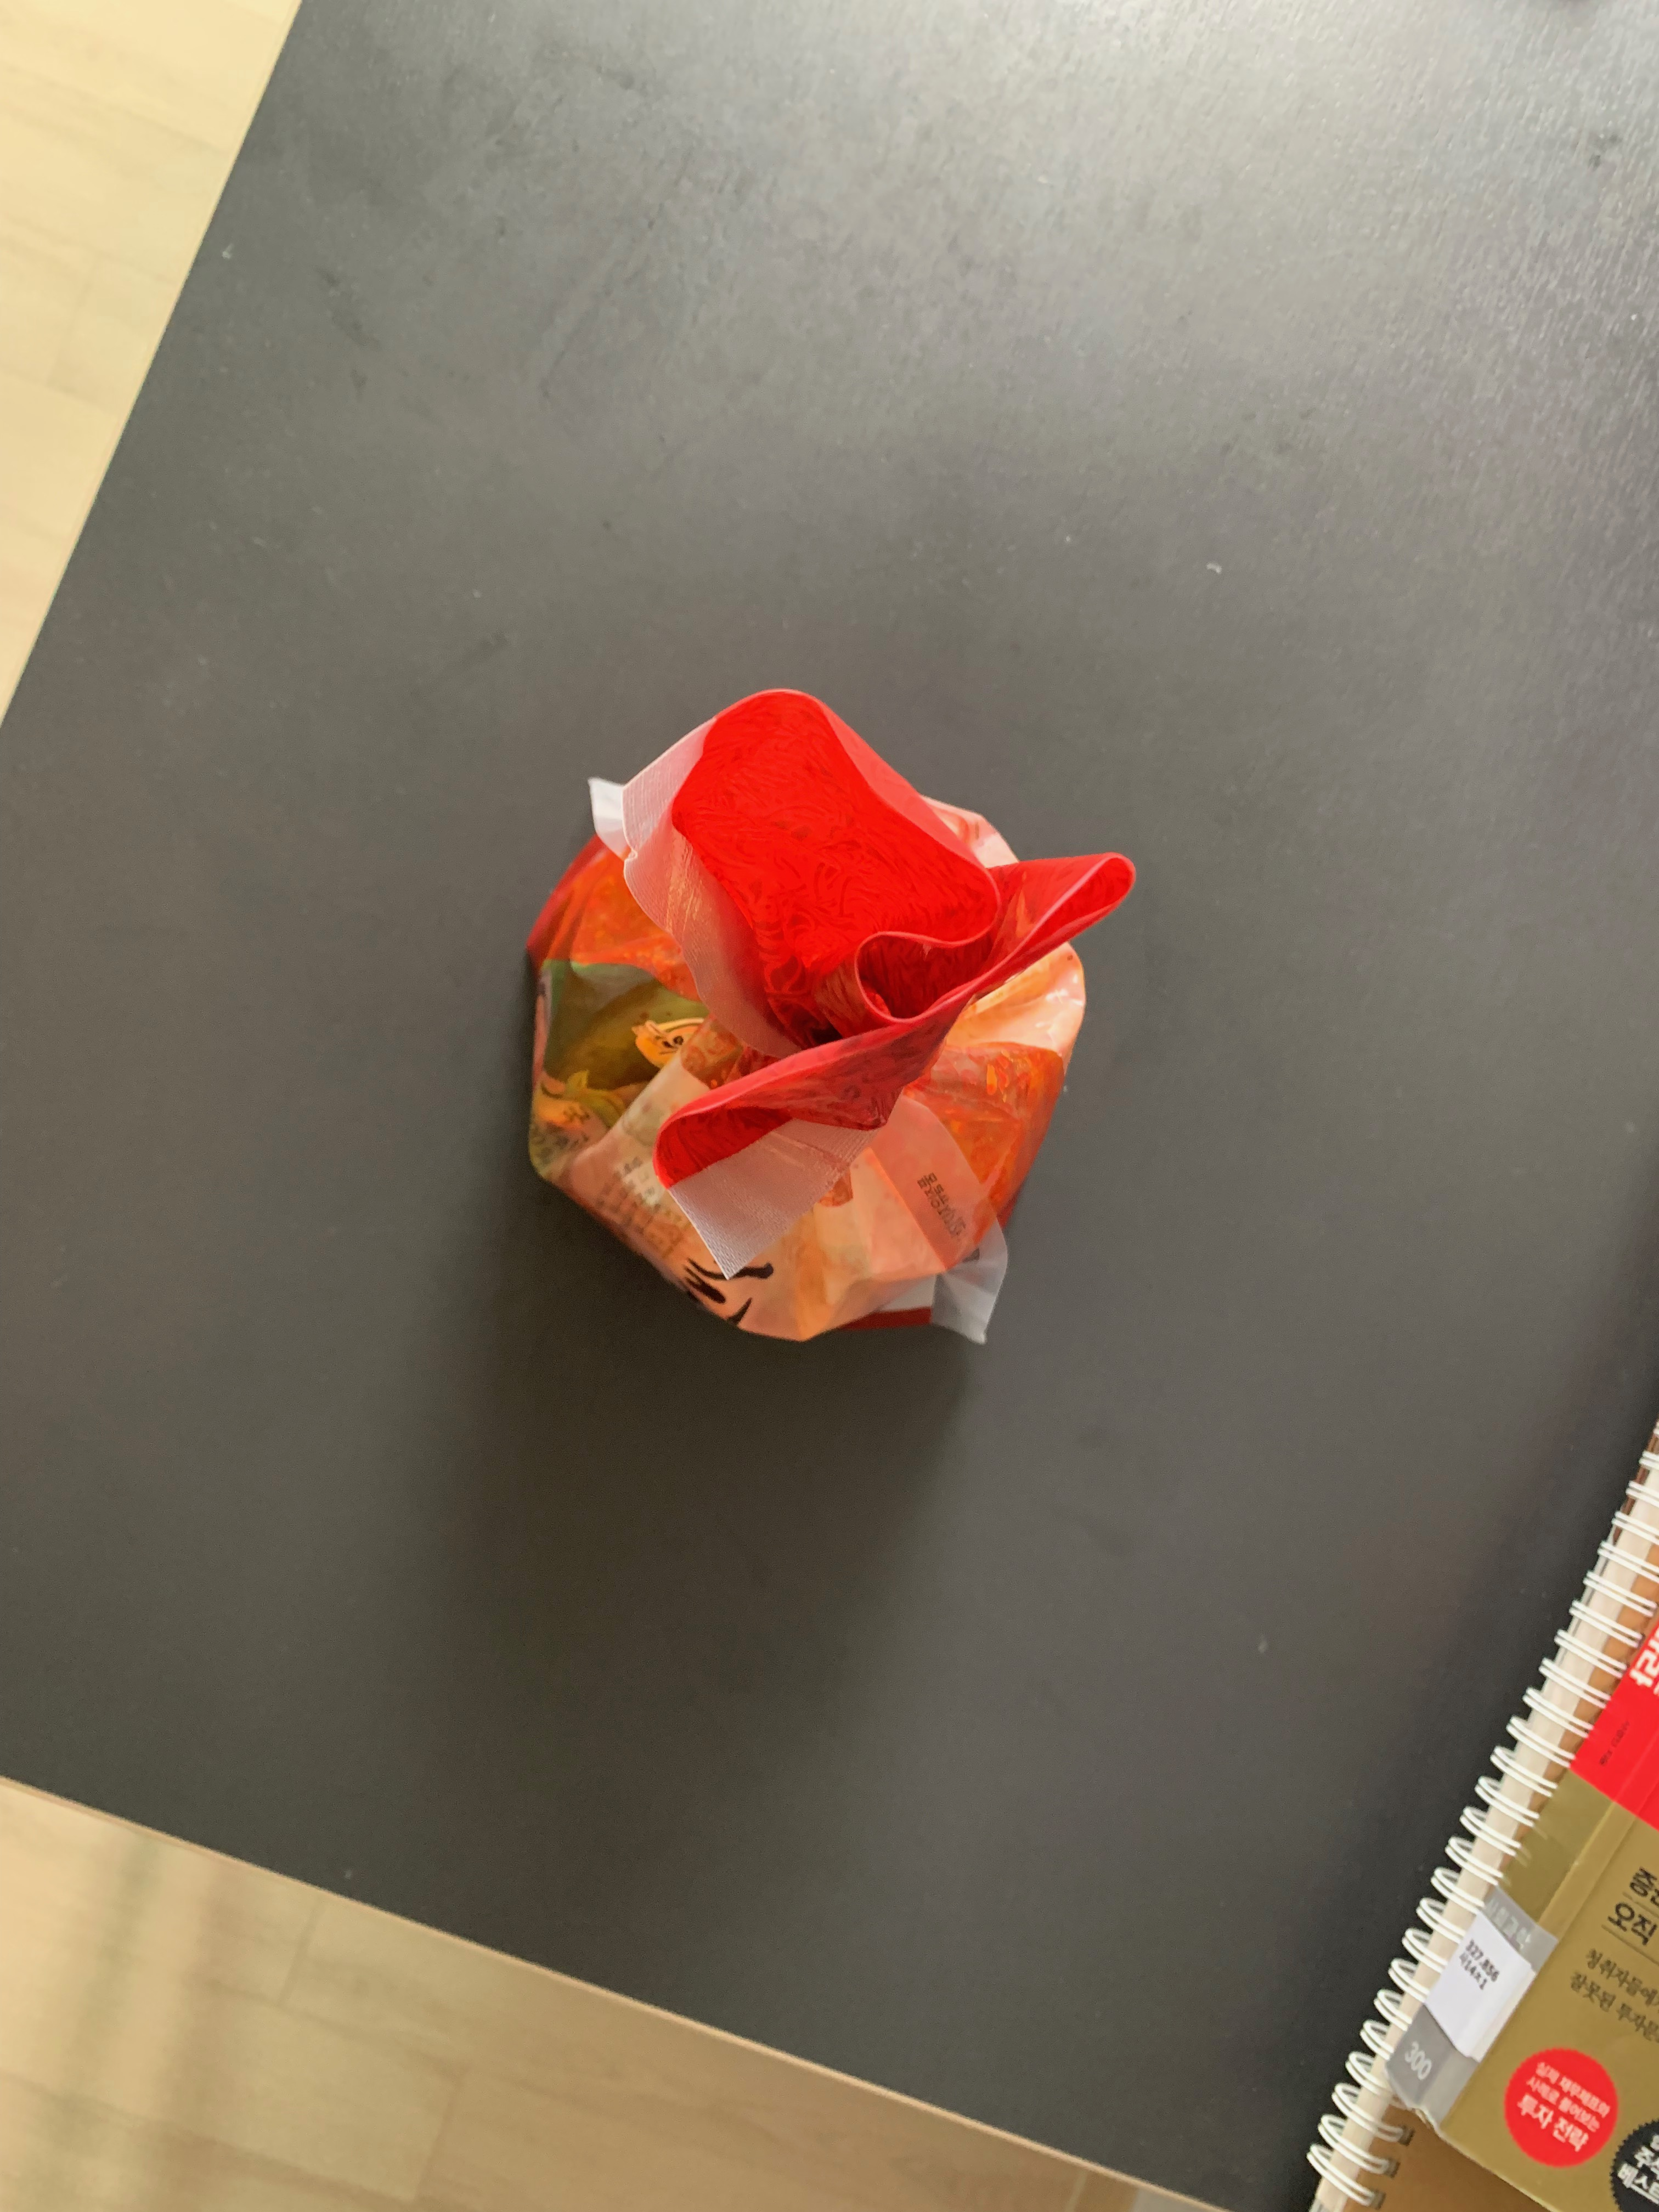kimchi: (525, 686, 1140, 1339)
